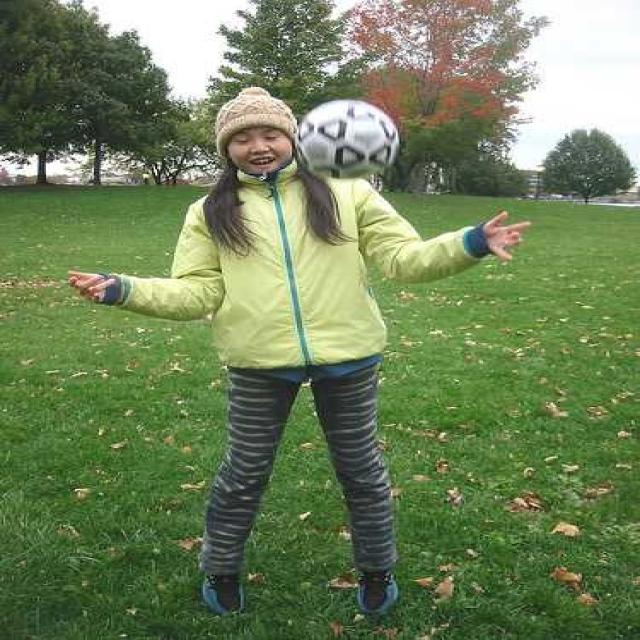ball: (302, 101, 398, 180)
